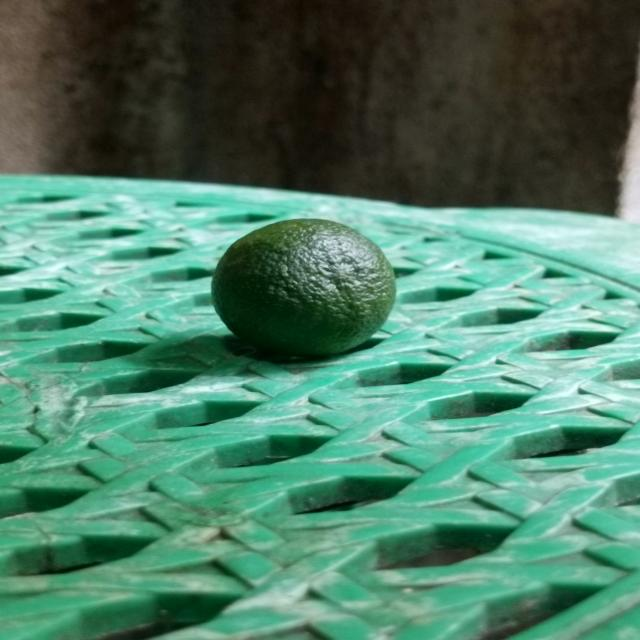heathy: (206, 215, 397, 356)
